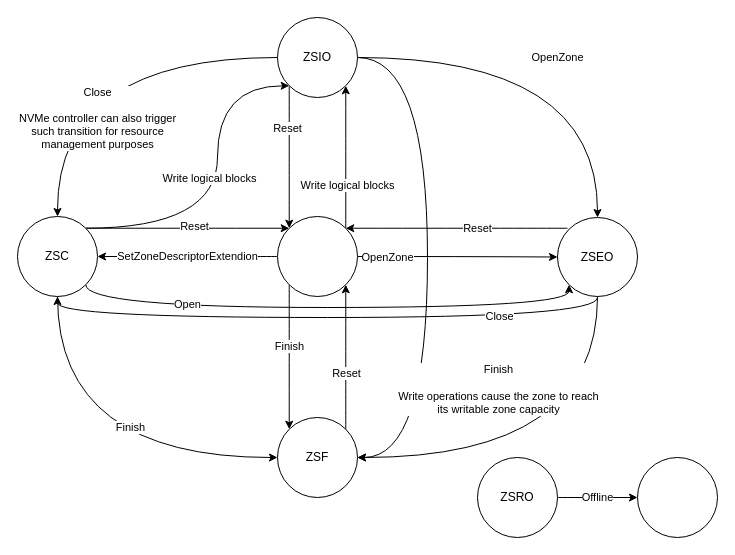
The diagram is 735 pixels wide and 555 high, and some of its shapes have lost their labels. Each missing label, with the centre of its shape:
ZSE: (x=317, y=256)
ZSO: (x=677, y=497)
